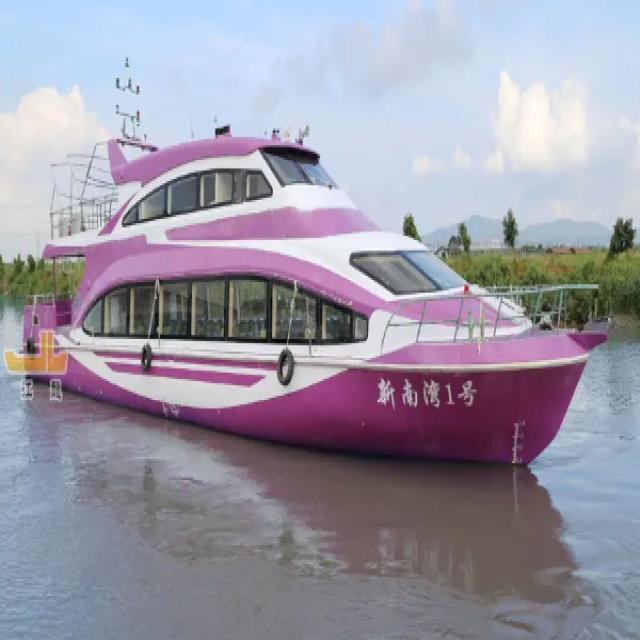houseboat: (31, 66, 592, 472)
